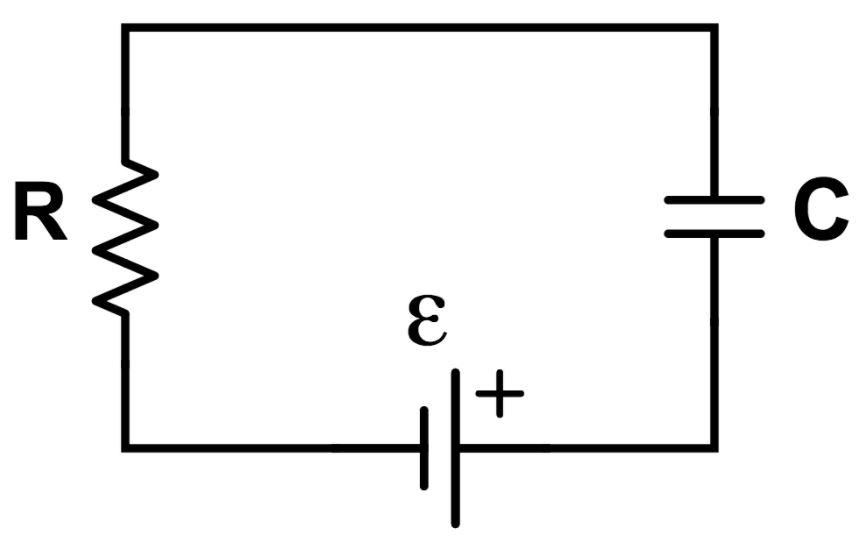Capacitor: (634, 123, 772, 289)
